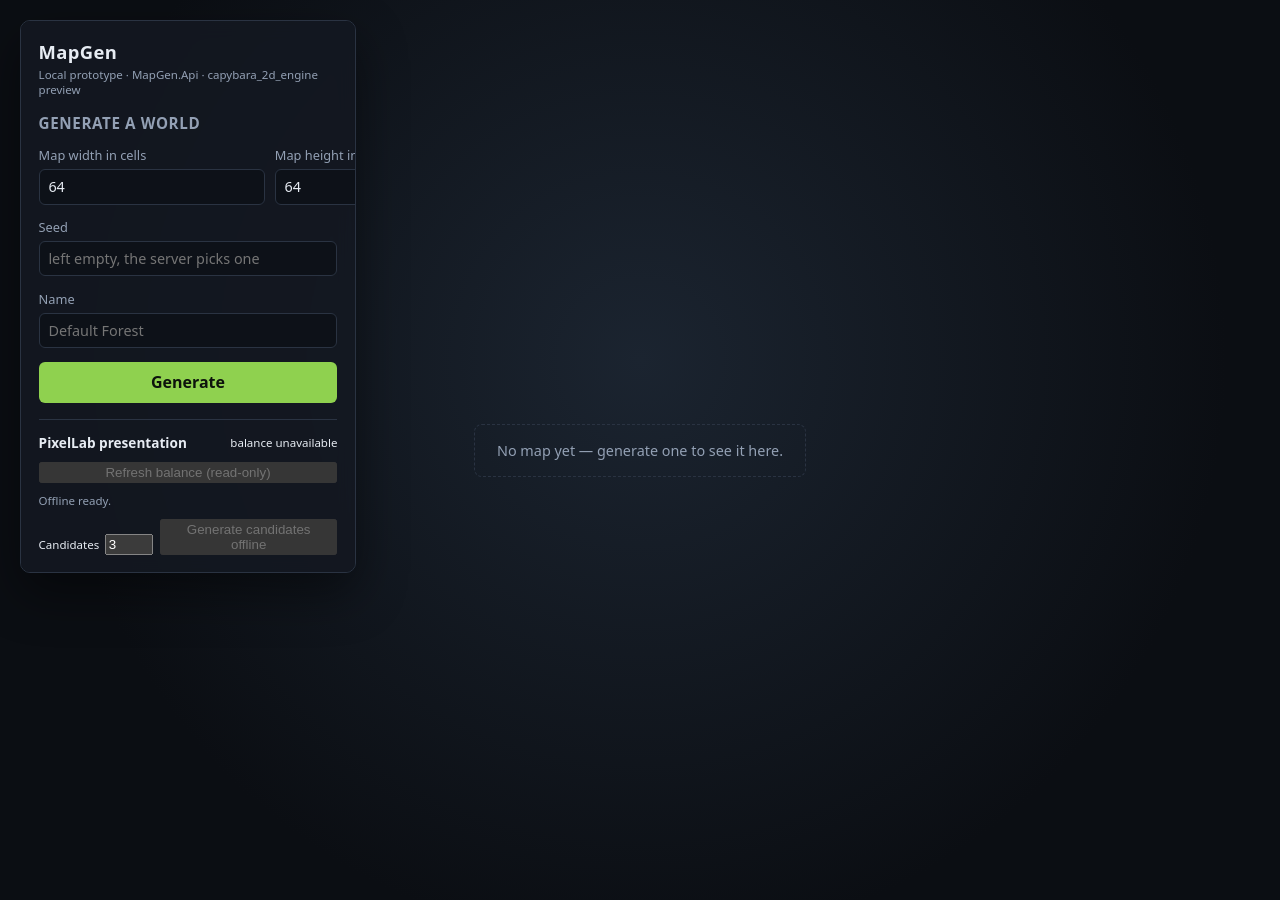
Test case: MapStudioPage › submits a job, narrates its stages, and renders the map once it succeeds
Expected: the text "No map yet — generate one to see it here." is shown, [474,424,806,476]
Click the button "Generate" at (188,382), box [39,362,337,403]
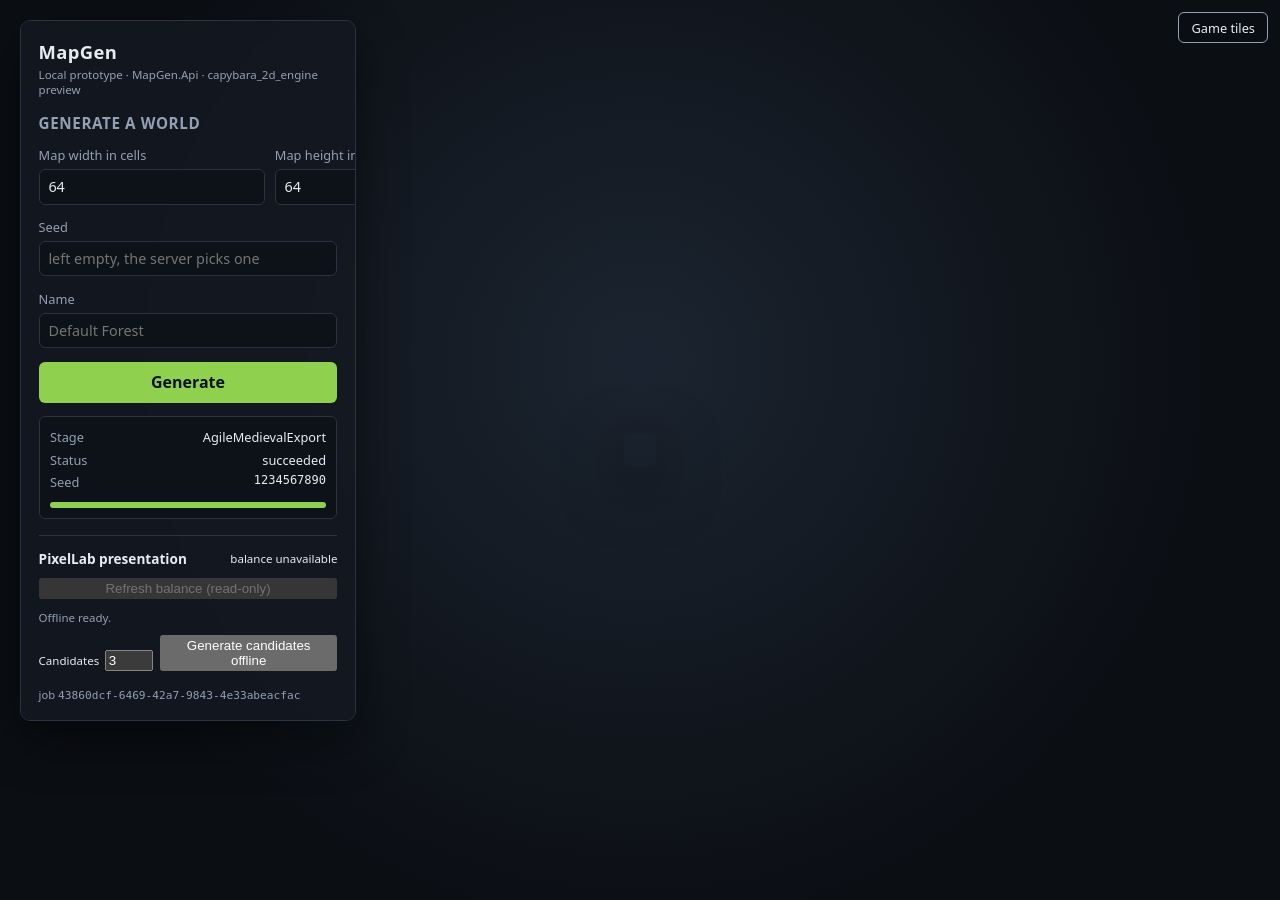
Expected: the text "queued" is shown, [262,451,326,469]
Expected: the text "Tiler" is shown, [203,428,326,446]
